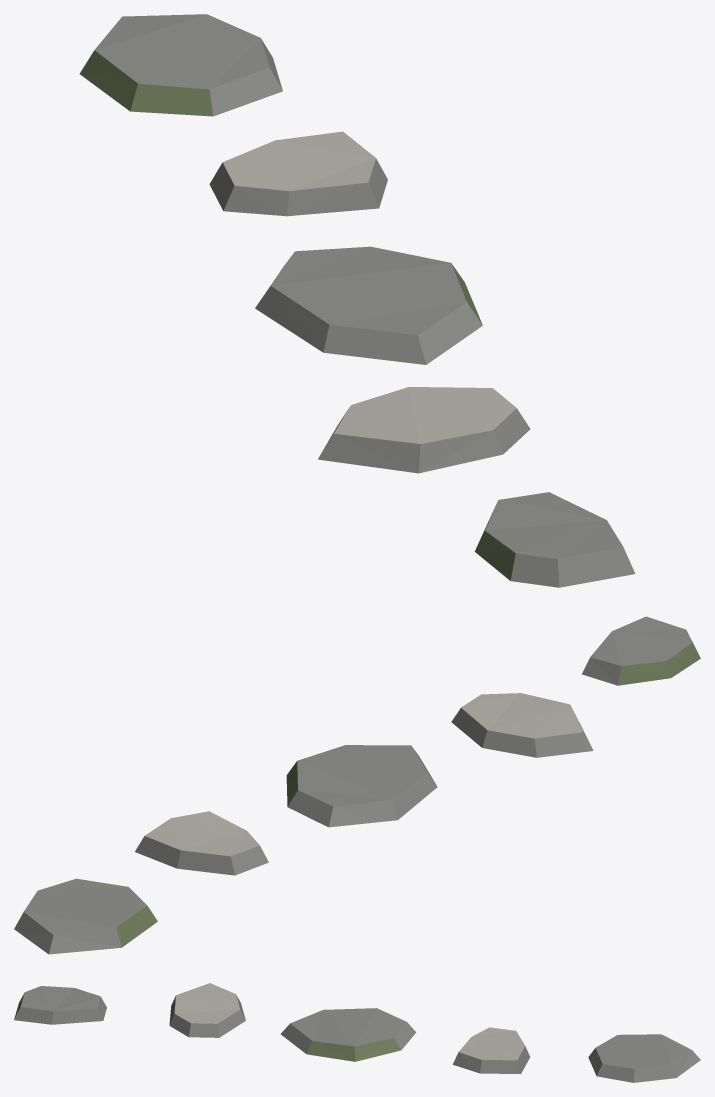
The model's file is stepping_stones.fbx.
3 views of the same model, one above another, from view 1: azimuth 30°, elevation 25°; view 2: azimuth 150°, elevation 25°; view 3: azimuth 270°, elevation 25° (orthographic). The views are drawn at different scales.
Visible parts, largest first — view 1: stepping_stones; view 2: stepping_stones; view 3: stepping_stones.
Boxes of the visible parts, x1,y1,x2,y2 form: stepping_stones: (79,14,635,587); stepping_stones: (14,616,700,954); stepping_stones: (14,983,700,1082).
Size of the model in its own units: 1.32 by 0.0809 by 4.16.
